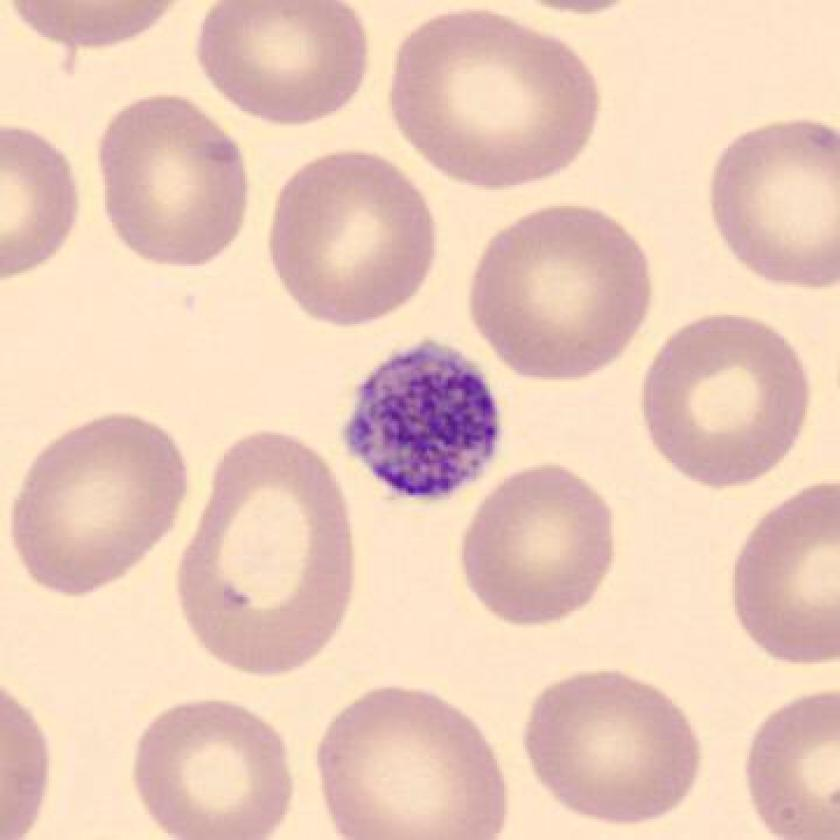platelets: (337, 332, 512, 505)
